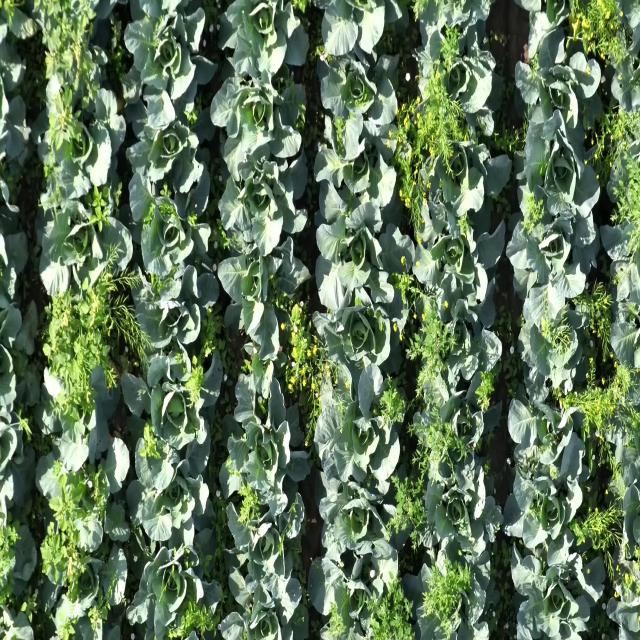holes: (120, 338, 225, 476), (314, 472, 404, 595), (42, 347, 114, 466), (126, 95, 211, 195), (602, 210, 640, 325), (611, 22, 640, 159)
